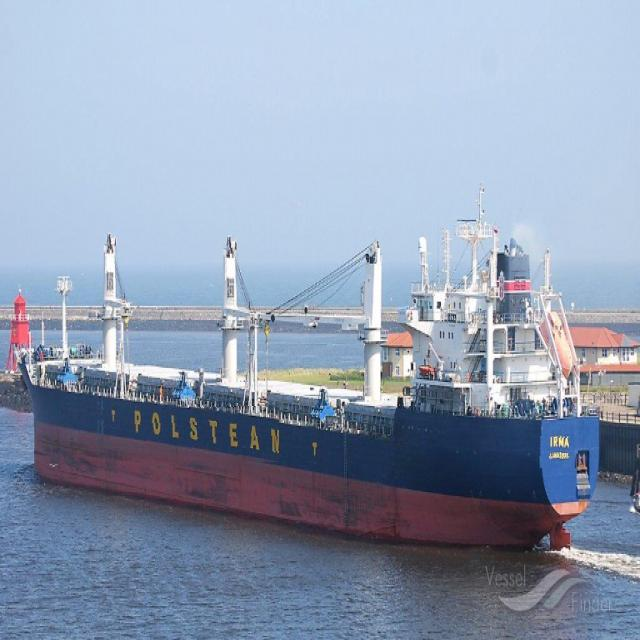OCR: (121, 401, 279, 465), (539, 426, 579, 468)
